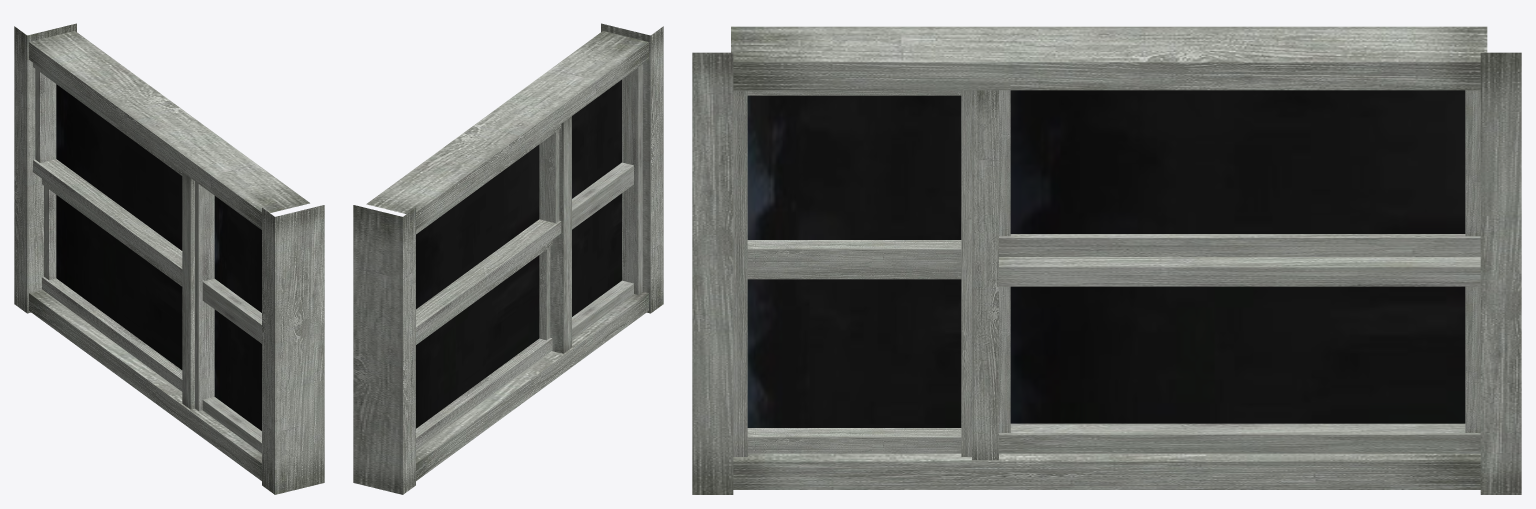
File: caen_window_white_clean_1.glb
3 renders of one model, left to right at view 1: azimuth 30°, elevation 25°; view 2: azimuth 150°, elevation 25°; view 3: azimuth 270°, elevation 25°, orthographic. The views are drawn at different scales.
Bounding box in the file's own units: 7.98 × 42.72 × 72.59.
1 material, 1 textured.
